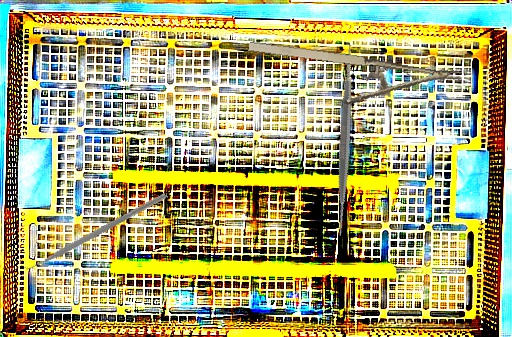Chopper: (15, 146, 169, 313)
Needle Holder: (242, 34, 462, 124)
Spatula Surgical: (243, 38, 448, 243)
